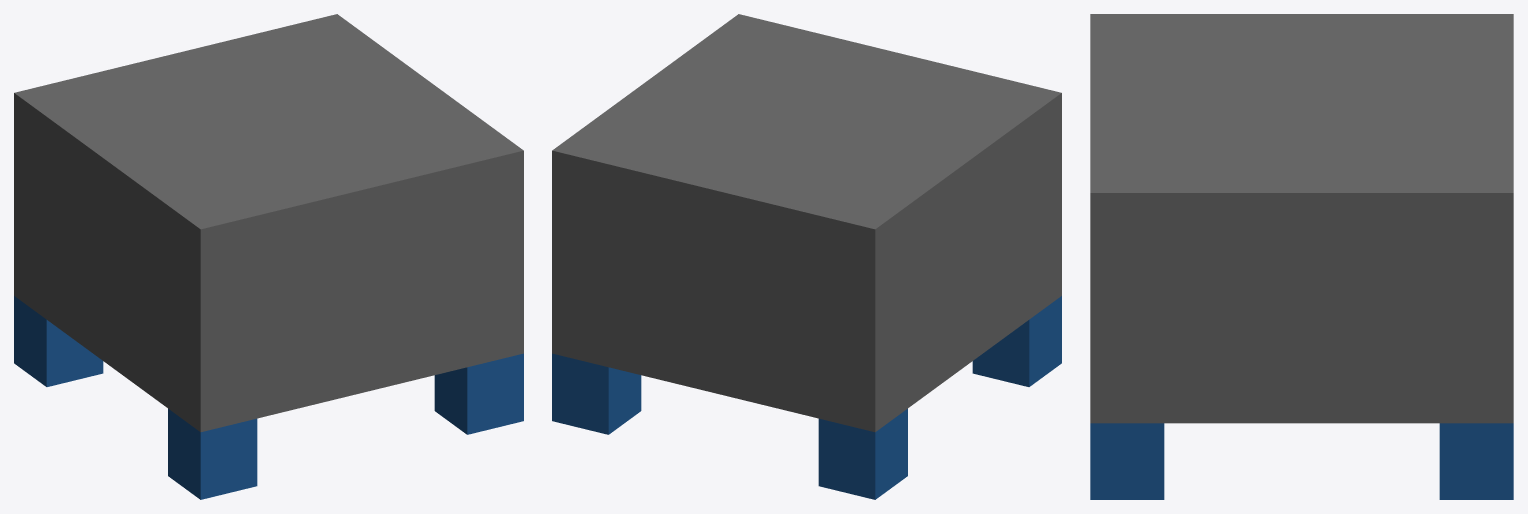
The model's file is bedmattress.obj.
The picture shows the model from 3 angles, left to right: view 1: azimuth 30°, elevation 25°; view 2: azimuth 150°, elevation 25°; view 3: azimuth 270°, elevation 25°; orthographic projection. The views are drawn at different scales.
Visible parts, largest first — view 1: bedmattress; view 2: bedmattress; view 3: bedmattress.
Boxes of the visible parts, x1,y1,x2,y2 form: bedmattress: [14, 14, 523, 499]; bedmattress: [552, 14, 1061, 499]; bedmattress: [1090, 14, 1513, 499].
Bounding box in the file's own units: 40 × 32 × 40.
